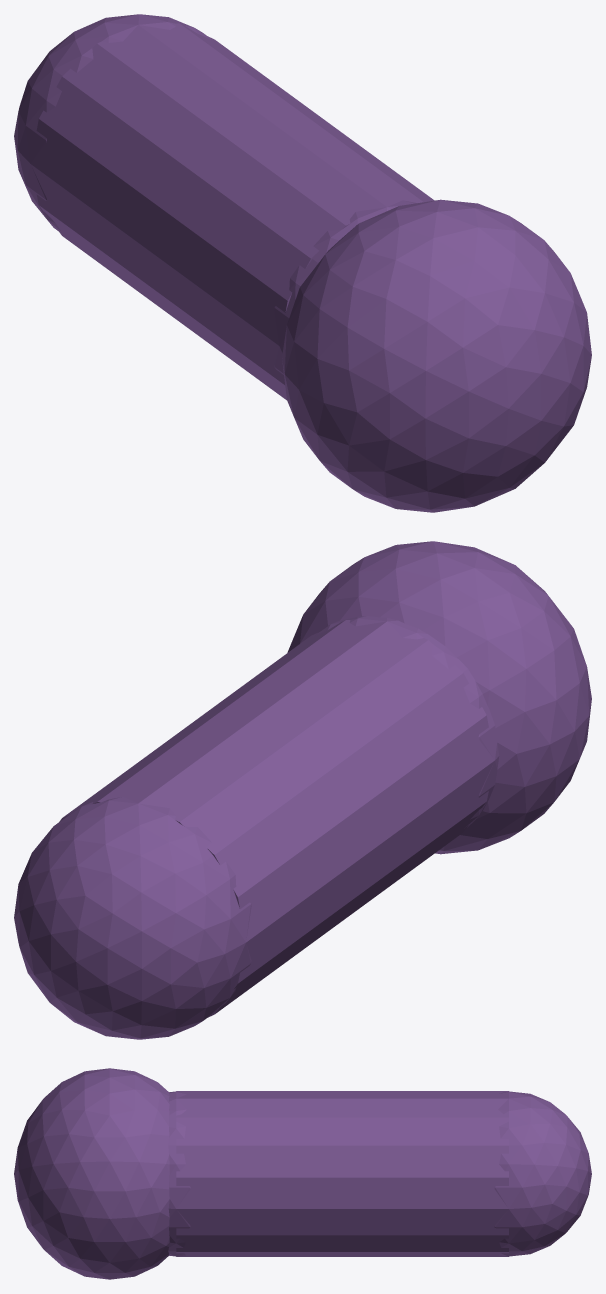
Rendered from primm_left_upper_arm.glb.
3 views of the same model, one above another, from view 1: azimuth 30°, elevation 25°; view 2: azimuth 150°, elevation 25°; view 3: azimuth 270°, elevation 25° (orthographic). The views are drawn at different scales.
Parts seen in each view (by area): view 1: world; view 2: world; view 3: world.
Boxes of the visible parts, bbox=[...] form: world: bbox=[14, 14, 591, 512]; world: bbox=[14, 541, 591, 1039]; world: bbox=[14, 1068, 591, 1279].
Size of the model in its own units: 0.128 by 0.128 by 0.3476.
